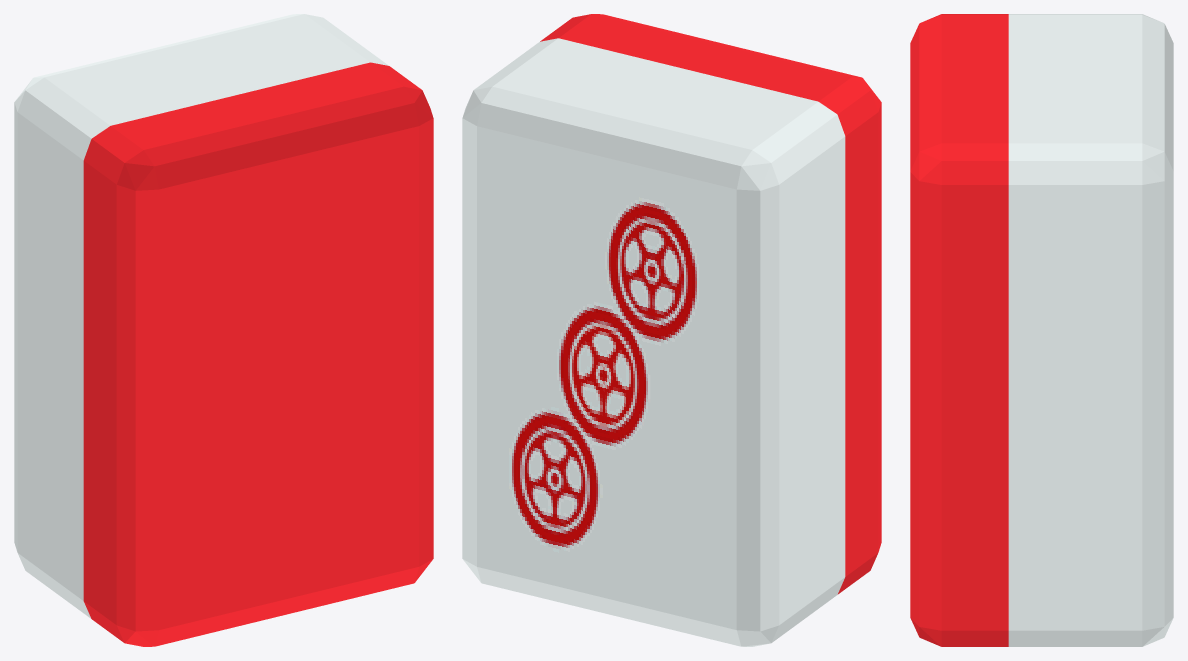
The model's file is ps2_save-icons_mahjonghaoukaikyubattle.glb.
3 views of the same model, side by side, from view 1: azimuth 30°, elevation 25°; view 2: azimuth 150°, elevation 25°; view 3: azimuth 270°, elevation 25° (orthographic).
Visible parts, largest first — view 1: system.ico; view 2: system.ico; view 3: system.ico.
Boxes of the visible parts, bbox=[...] form: system.ico: bbox=[14, 14, 433, 646]; system.ico: bbox=[462, 14, 881, 646]; system.ico: bbox=[910, 14, 1173, 646].
Size of the model in its own units: 2.92 by 4.42 by 2.1.
1 material, 1 textured.
